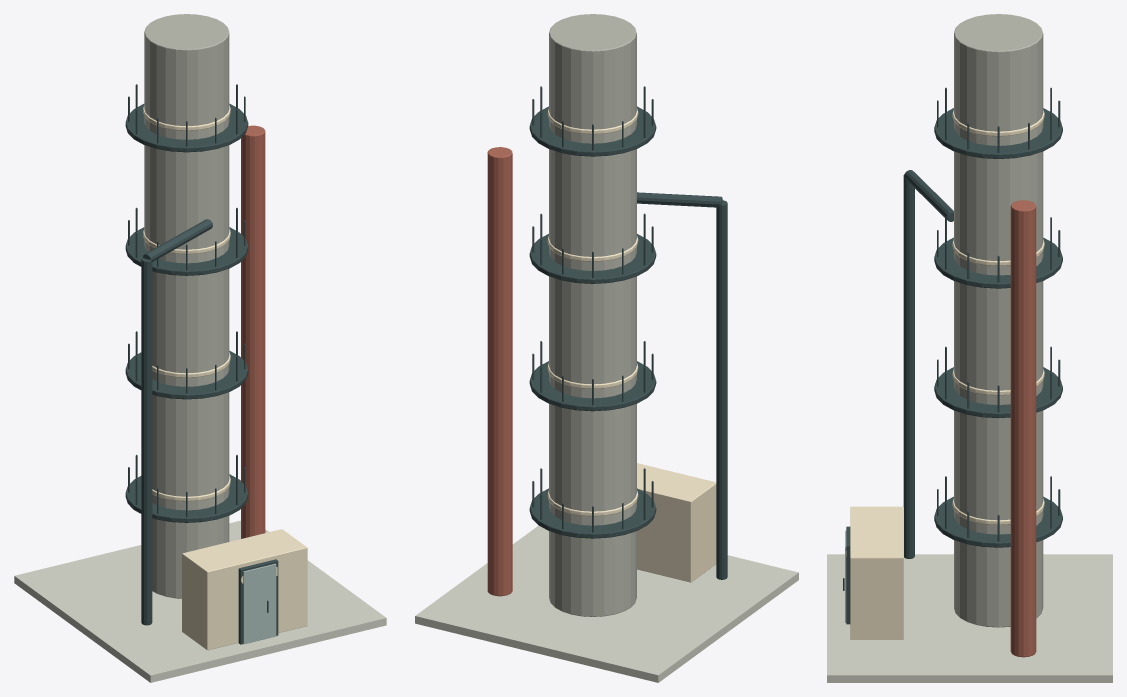
The model's file is large-2x2-distillation-02.glb.
3 views of the same model, side by side, from view 1: azimuth 30°, elevation 25°; view 2: azimuth 150°, elevation 25°; view 3: azimuth 270°, elevation 25° (orthographic). The views are drawn at different scales.
Parts seen in each view (by area): view 1: DistillationColumn, LotPlinth, Flue, ControlCabin, MainPipe, EntranceGlass, ServiceDeck.003, ServiceDeck.002, ServiceDeck.001, ServiceDeck, PipeElbow, EntranceFrame; view 2: DistillationColumn, LotPlinth, Flue, ControlCabin, MainPipe, ServiceDeck, ServiceDeck.003, ServiceDeck.002, ServiceDeck.001, PipeElbow; view 3: DistillationColumn, LotPlinth, Flue, ControlCabin, MainPipe, ServiceDeck.003, ServiceDeck.002, ServiceDeck.001, ServiceDeck, PipeElbow, ColumnBand.003, EntranceFrame.
Boxes of the visible parts, x1,y1,x2,y2 form: DistillationColumn: [144, 14, 229, 598]; LotPlinth: [14, 520, 386, 682]; Flue: [241, 125, 265, 538]; ControlCabin: [182, 529, 307, 650]; MainPipe: [141, 258, 152, 625]; EntranceGlass: [243, 563, 276, 644]; ServiceDeck.003: [125, 103, 248, 152]; ServiceDeck.002: [125, 227, 248, 275]; ServiceDeck.001: [125, 350, 248, 399]; ServiceDeck: [125, 474, 248, 522]; PipeElbow: [143, 219, 212, 261]; EntranceFrame: [238, 559, 278, 644]; DistillationColumn: [549, 14, 636, 616]; LotPlinth: [415, 525, 798, 682]; Flue: [487, 147, 512, 596]; ControlCabin: [637, 463, 716, 582]; MainPipe: [716, 200, 727, 579]; ServiceDeck: [529, 488, 656, 538]; ServiceDeck.003: [529, 106, 656, 156]; ServiceDeck.002: [529, 234, 656, 283]; ServiceDeck.001: [529, 361, 656, 411]; PipeElbow: [637, 192, 722, 207]; DistillationColumn: [954, 14, 1043, 627]; LotPlinth: [827, 554, 1112, 682]; Flue: [1010, 200, 1036, 657]; ControlCabin: [850, 506, 903, 639]; MainPipe: [903, 174, 914, 558]; ServiceDeck.003: [934, 108, 1062, 158]; ServiceDeck.002: [934, 237, 1062, 288]; ServiceDeck.001: [934, 367, 1062, 418]; ServiceDeck: [934, 496, 1062, 547]; PipeElbow: [904, 170, 953, 221]; ColumnBand.003: [952, 109, 1044, 136]; EntranceFrame: [846, 526, 850, 624].
Bounding box in the file's own units: 8 × 18.22 × 8.
